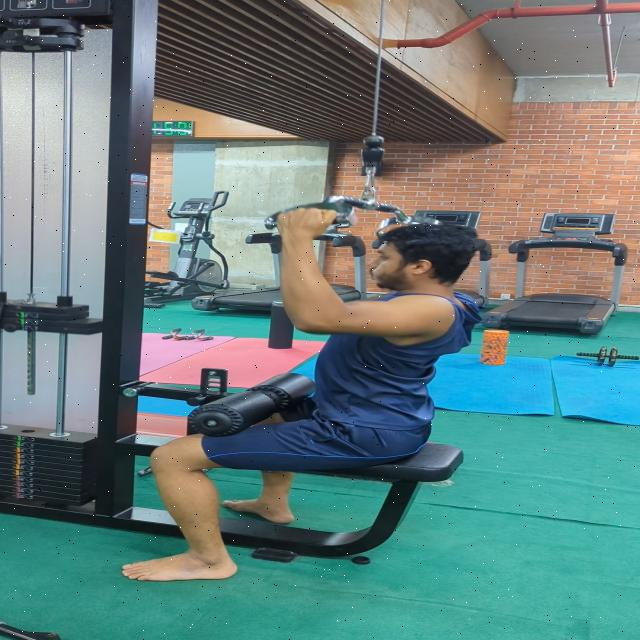Normal_LatPulldown: (95, 202, 524, 595)
